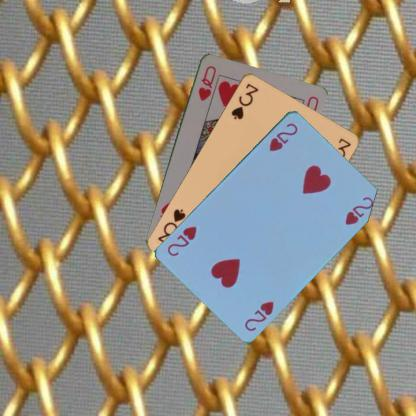2h: (242, 298, 276, 332), (266, 120, 300, 152)
3s: (228, 80, 260, 121)
Qh: (196, 62, 218, 102)
